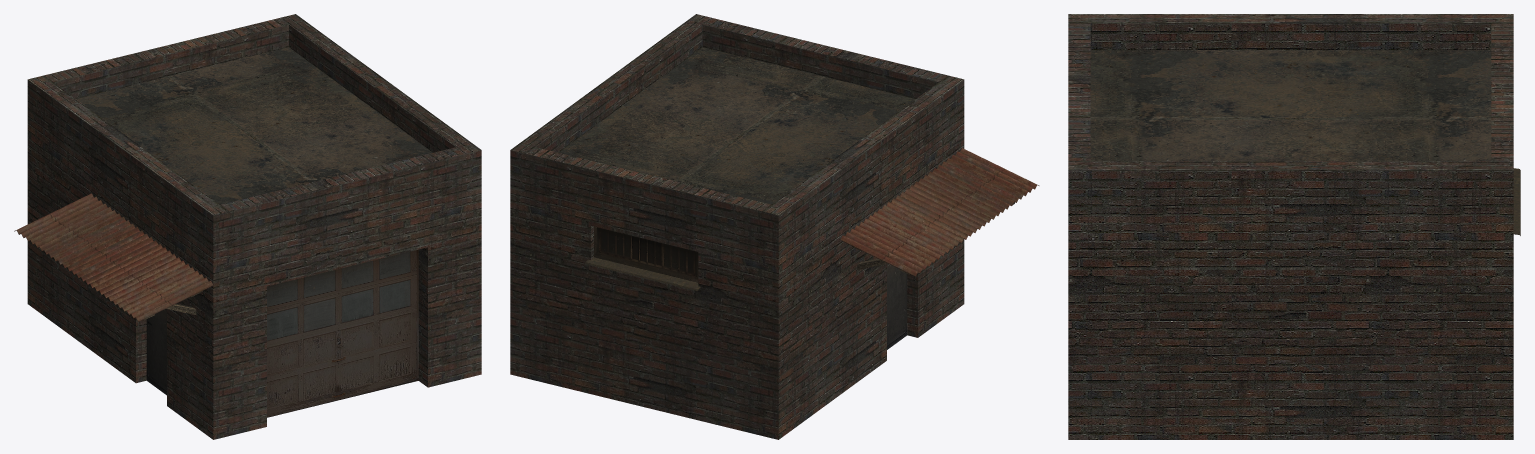
Rendered from garage_hm_1.glb.
3 views of the same model, side by side, from view 1: azimuth 30°, elevation 25°; view 2: azimuth 150°, elevation 25°; view 3: azimuth 270°, elevation 25° (orthographic). The views are drawn at different scales.
Visible parts, largest first — view 1: garage_hm_1; view 2: garage_hm_1; view 3: garage_hm_1.
Boxes of the visible parts, <box> form: garage_hm_1: <box>14,14,481,439</box>; garage_hm_1: <box>510,14,1039,439</box>; garage_hm_1: <box>1068,14,1520,439</box>.
Size of the model in its own units: 6.4 by 4 by 6.1.
Materials: 9 (9 with a texture image).
